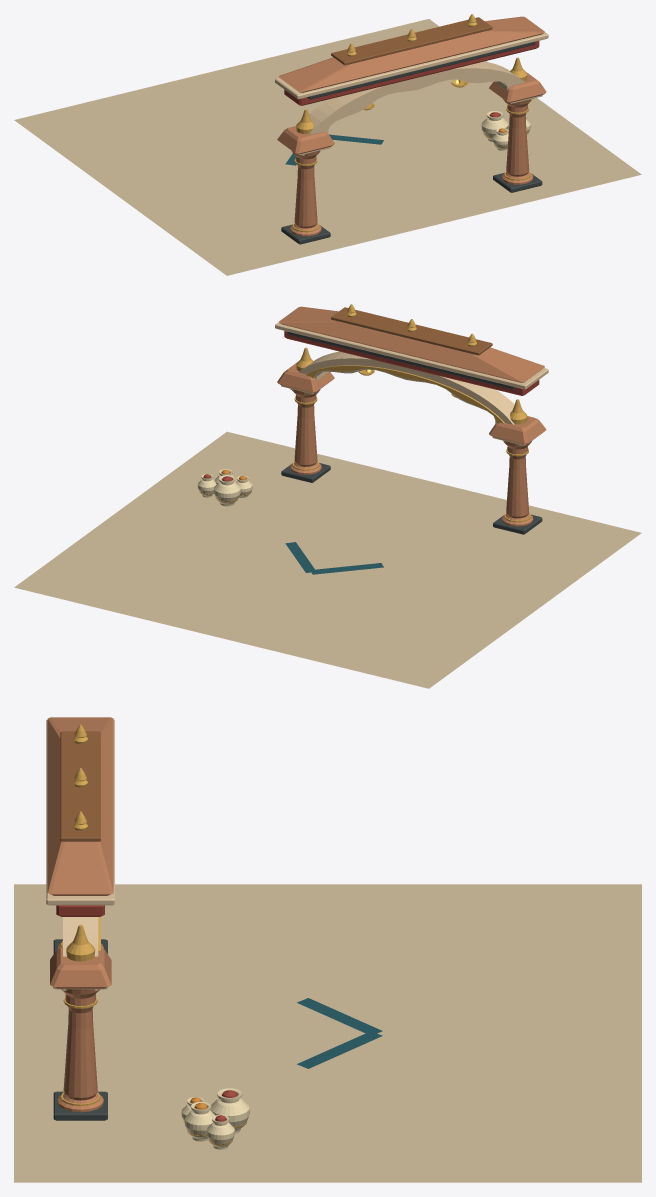
The model's file is room-atk.glb.
3 renders of one model, top to bottom at view 1: azimuth 30°, elevation 25°; view 2: azimuth 150°, elevation 25°; view 3: azimuth 270°, elevation 25°, orthographic. The views are drawn at different scales.
Parts seen in each view (by area): view 1: Surveyed floor · room-atk, Spice gate · traders’ torana · sandstone, Spice gate · traders’ torana · limestone, Spice gate · traders’ torana · bronze, Spice gate · traders’ torana · basalt, Spice gate · traders’ torana · madder, Spice gate · traders’ torana · brass, Spice gate · open spice scales · linen; view 2: Surveyed floor · room-atk, Spice gate · traders’ torana · sandstone, Spice gate · traders’ torana · limestone, Spice gate · traders’ torana · bronze, Spice gate · traders’ torana · brass, Spice gate · traders’ torana · basalt, Spice gate · traders’ torana · madder, Spice gate · open spice scales · linen; view 3: Surveyed floor · room-atk, Spice gate · traders’ torana · sandstone, Spice gate · traders’ torana · bronze, Spice gate · open spice scales · linen, Spice gate · traders’ torana · limestone, Spice gate · traders’ torana · brass, Spice gate · traders’ torana · basalt.
Part boxes in pixels (x1,y1,x2,y2): Surveyed floor · room-atk: [14, 19, 641, 275]; Spice gate · traders’ torana · sandstone: [277, 16, 546, 236]; Spice gate · traders’ torana · limestone: [275, 32, 548, 155]; Spice gate · traders’ torana · bronze: [331, 17, 492, 83]; Spice gate · traders’ torana · basalt: [281, 42, 542, 244]; Spice gate · traders’ torana · madder: [284, 41, 539, 105]; Spice gate · traders’ torana · brass: [292, 14, 530, 232]; Spice gate · open spice scales · linen: [481, 111, 530, 150]; Surveyed floor · room-atk: [14, 431, 641, 688]; Spice gate · traders’ torana · sandstone: [277, 306, 546, 526]; Spice gate · traders’ torana · limestone: [275, 322, 548, 445]; Spice gate · traders’ torana · bronze: [331, 307, 492, 371]; Spice gate · traders’ torana · brass: [292, 304, 530, 522]; Spice gate · traders’ torana · basalt: [281, 332, 542, 534]; Spice gate · traders’ torana · madder: [284, 331, 539, 395]; Spice gate · open spice scales · linen: [197, 469, 252, 506]; Surveyed floor · room-atk: [14, 884, 641, 1182]; Spice gate · traders’ torana · sandstone: [47, 717, 113, 1112]; Spice gate · traders’ torana · bronze: [60, 731, 100, 841]; Spice gate · open spice scales · linen: [181, 1088, 249, 1149]; Spice gate · traders’ torana · limestone: [46, 720, 114, 990]; Spice gate · traders’ torana · brass: [61, 724, 100, 1106]; Spice gate · traders’ torana · basalt: [53, 939, 107, 1120].
Bounding box in the file's own units: 18 × 7.45 × 16.
